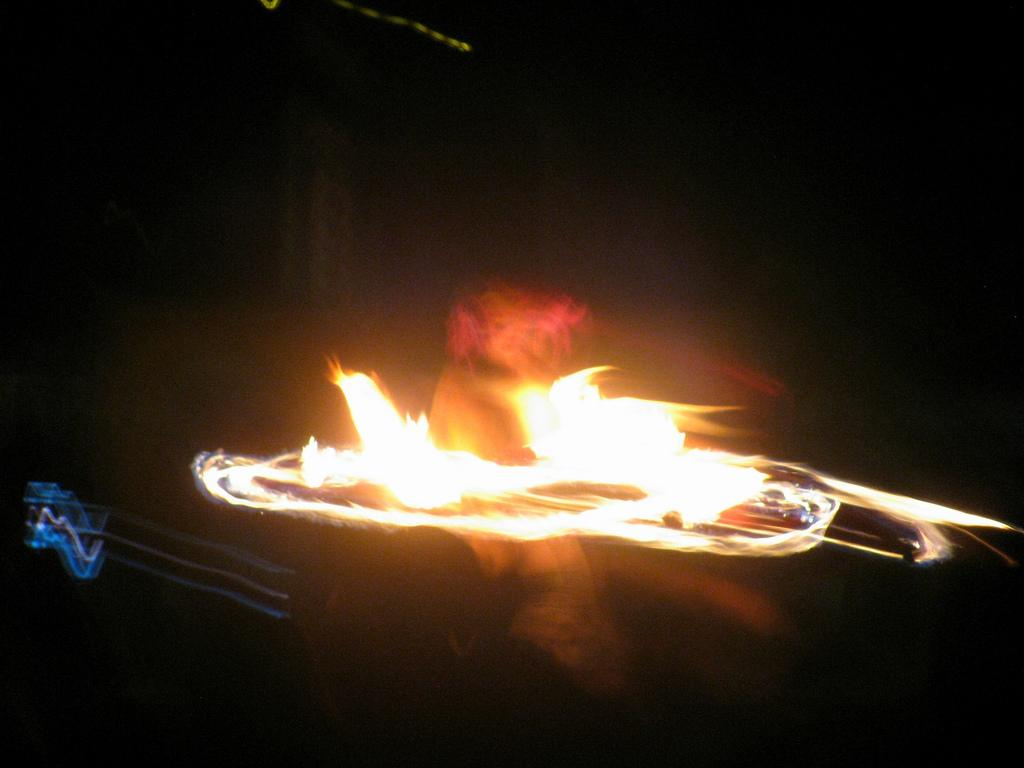fire: (526, 374, 722, 506), (348, 398, 468, 520)
